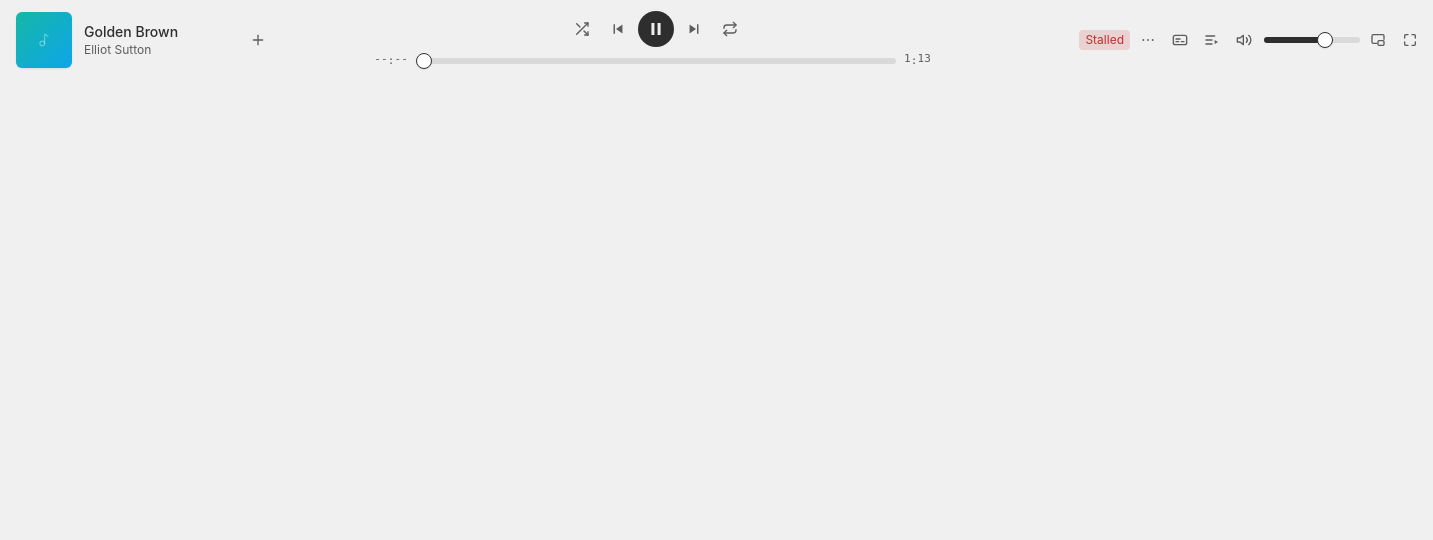
Test: the overflow menu › changes the playback speed from the branch
Expected: the text "Golden Brown" is shown, [84,23,178,40]
Click the button named "More player controls". click: click(1148, 40)
box: [1134,26,1162,54]
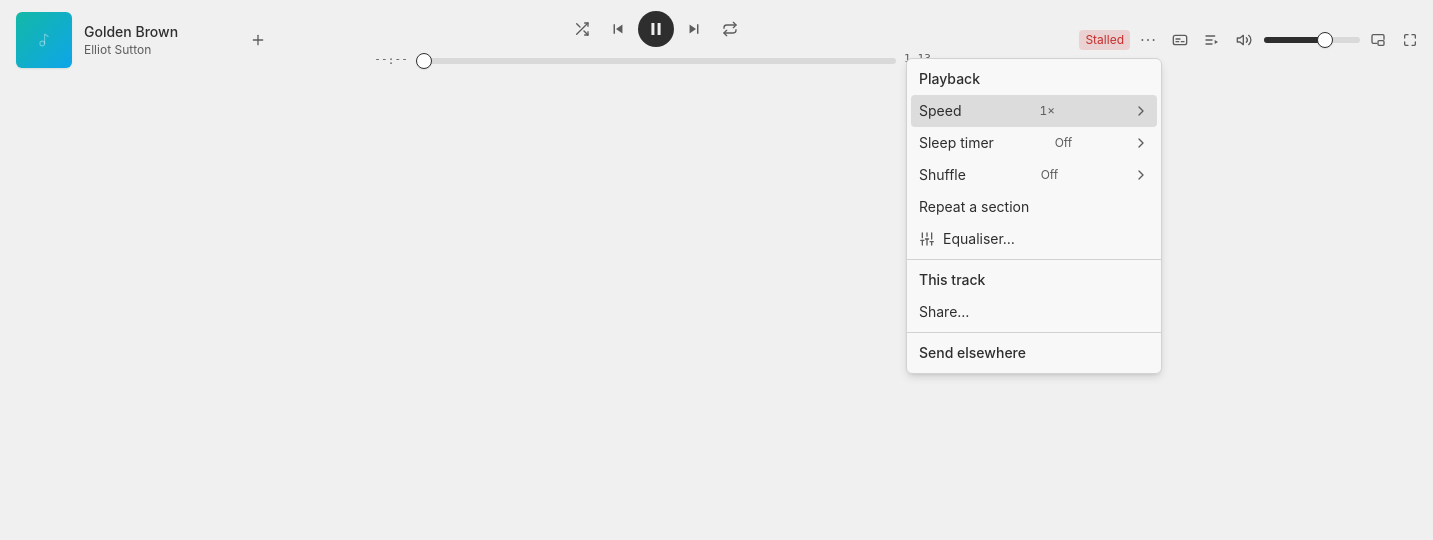
Press Arrowright
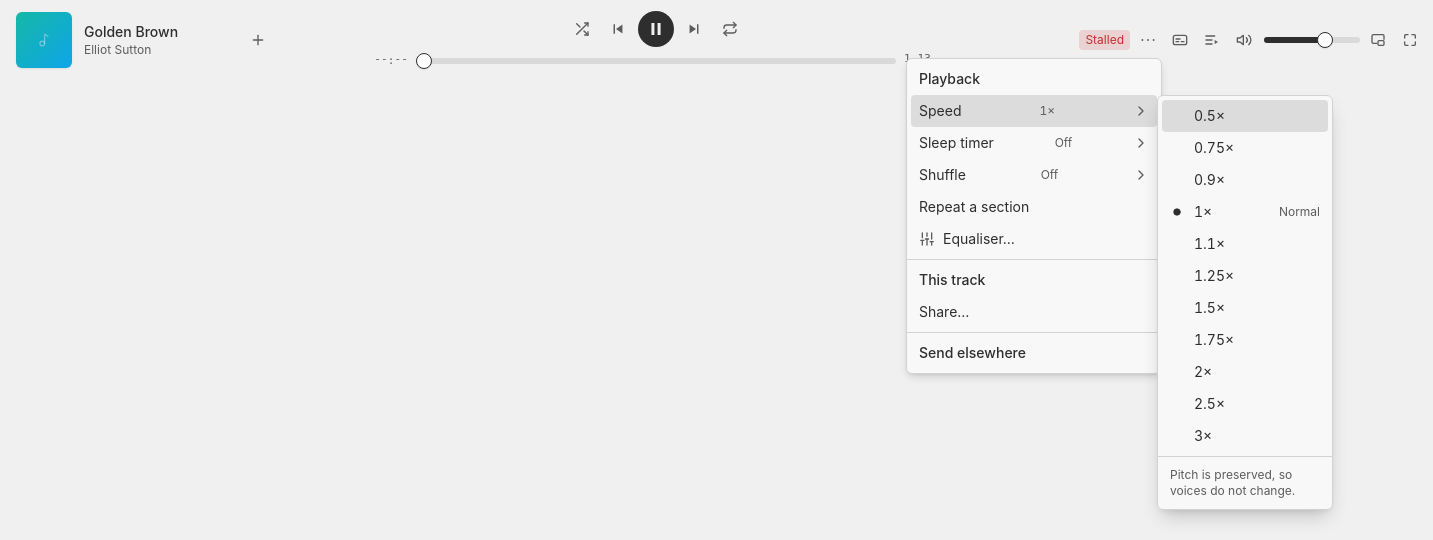
Press Arrowdown Arrowdown Arrowdown {ArrowD
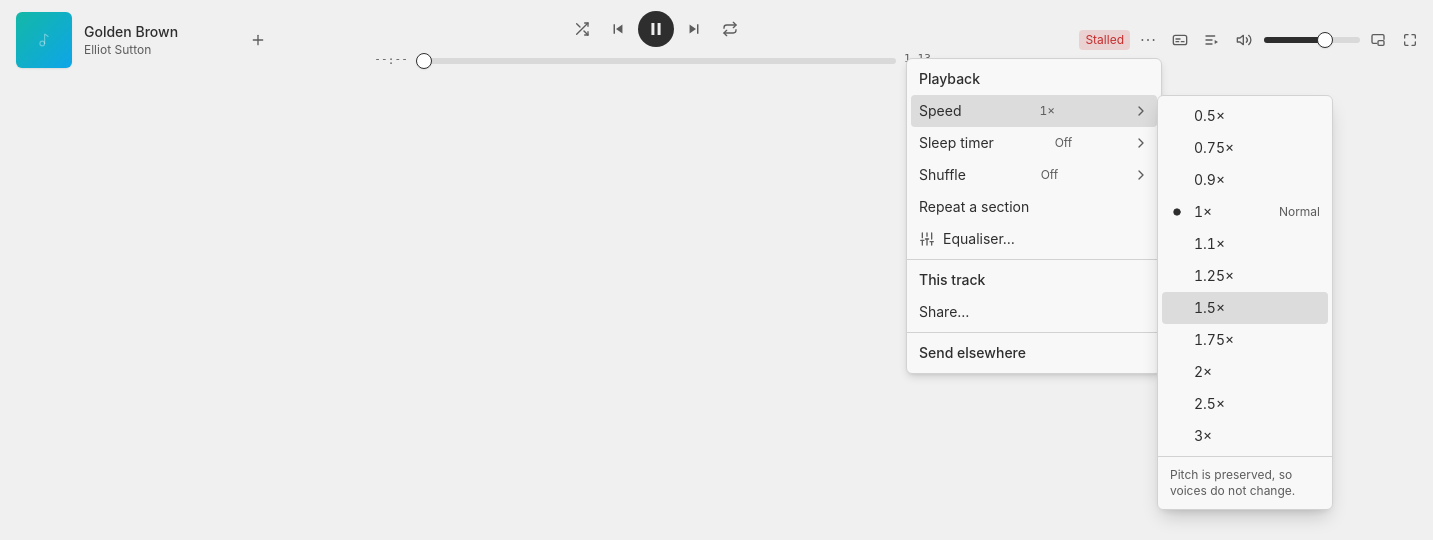
Press Enter
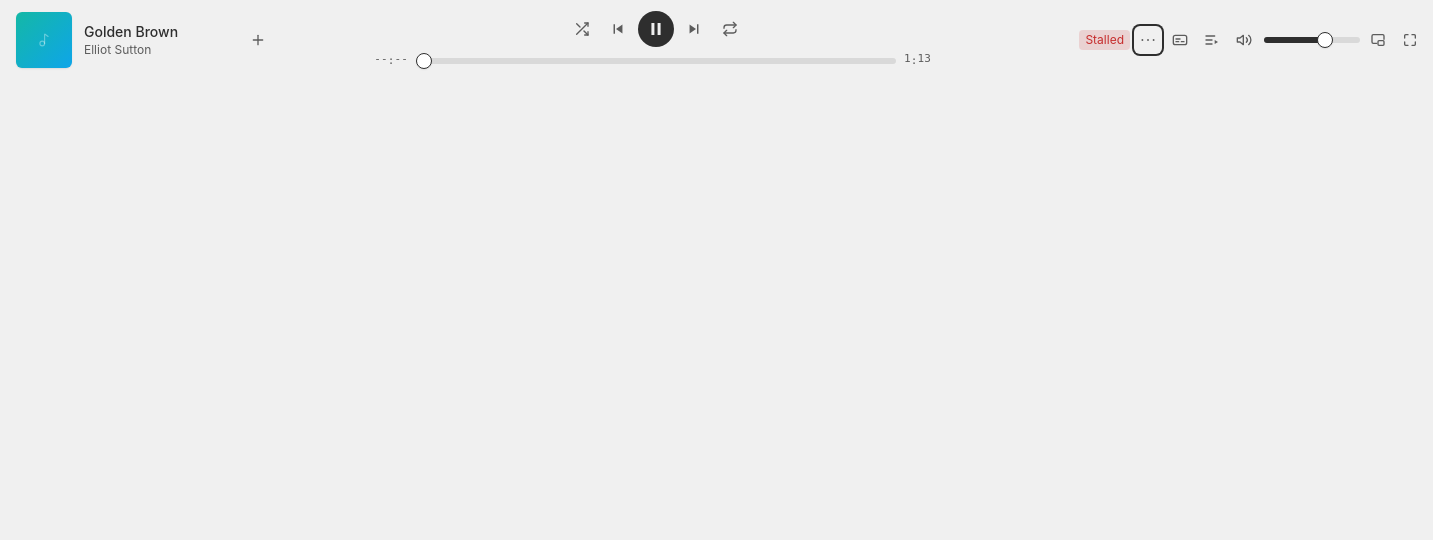
Expected: the text "Golden Brown" is shown, [84,23,178,40]
Click the button named "More player controls". click: click(1148, 40)
box: [1134,26,1162,54]
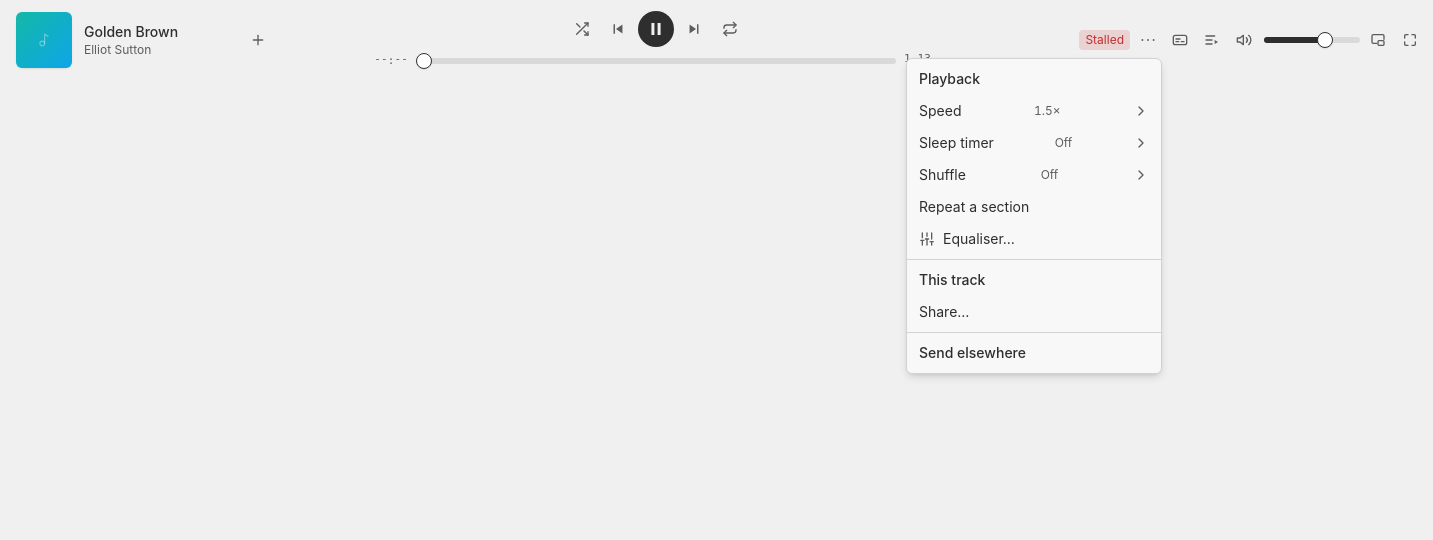
Expected: the menu item "Speed 1.5×" is shown, [919,102,1149,119]
